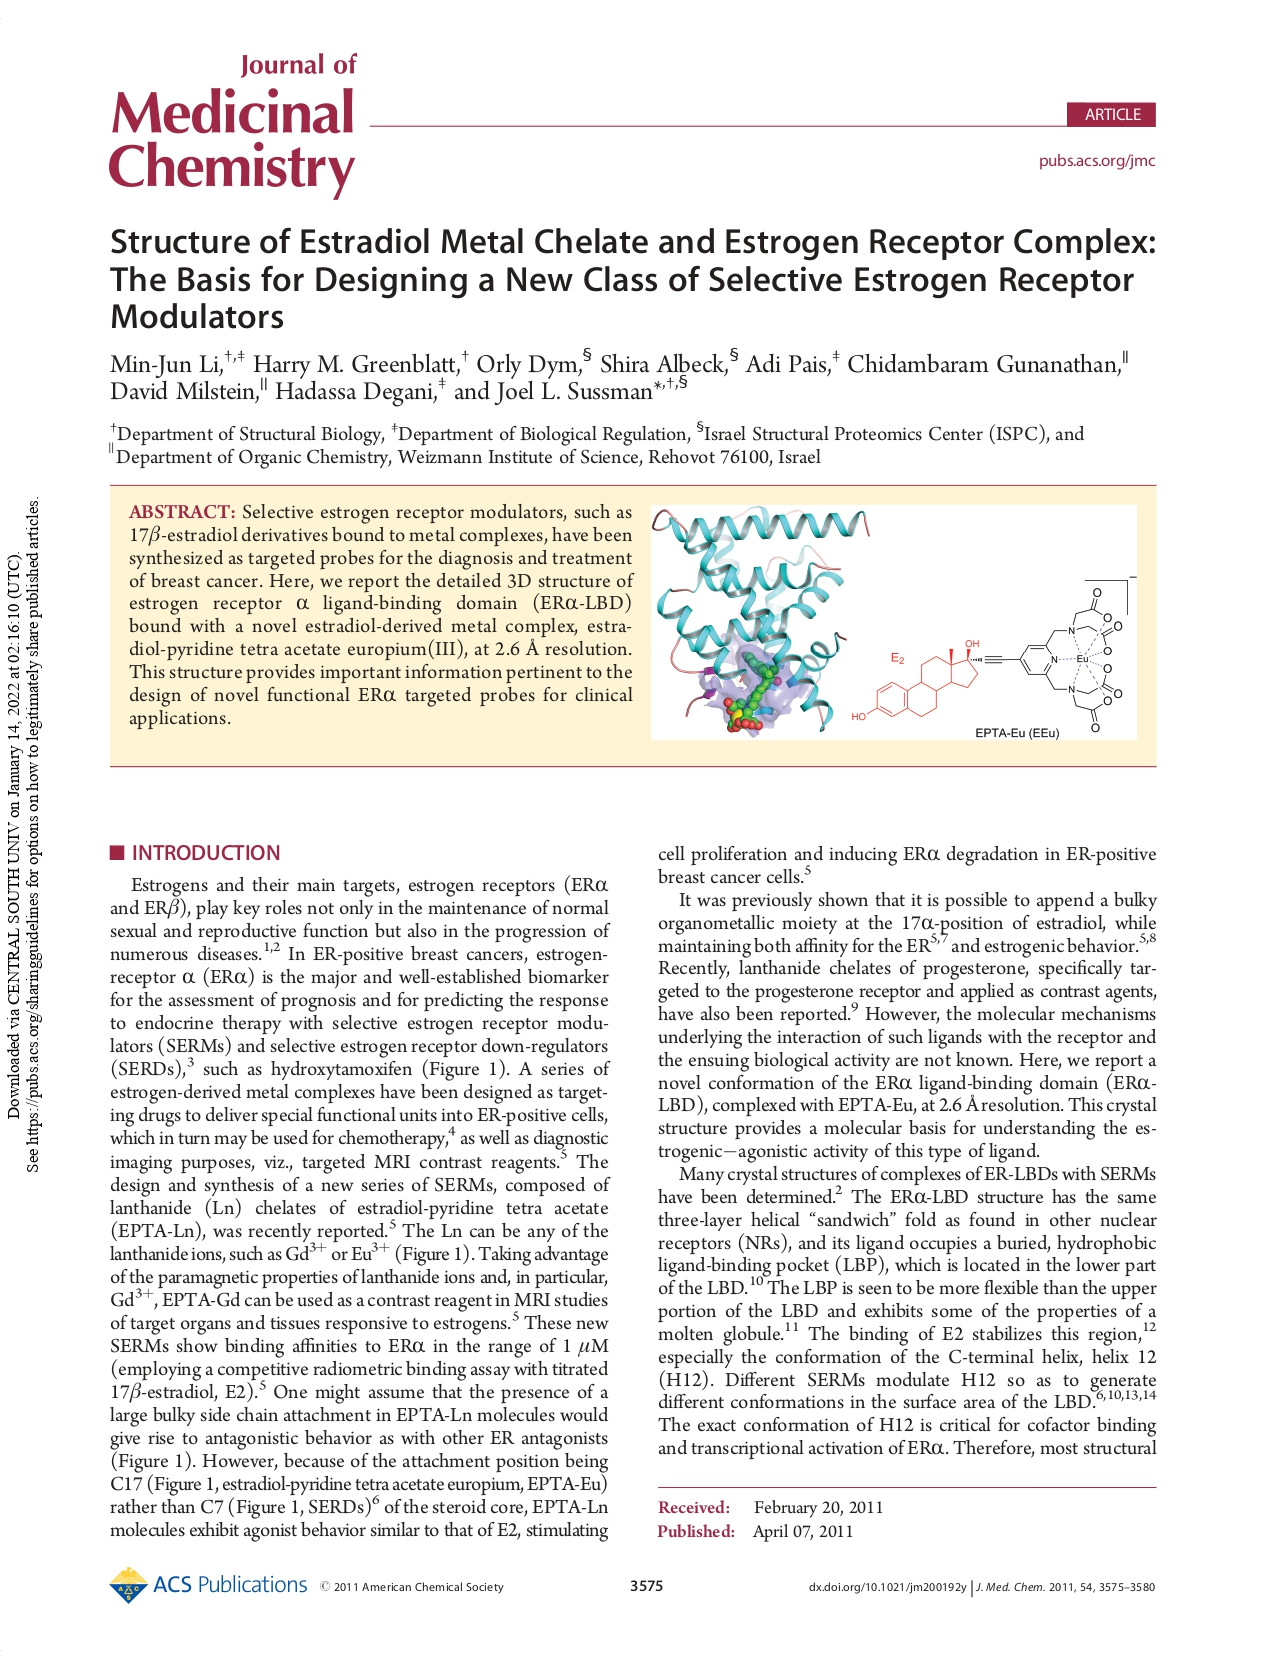exist_molecular: (850, 586, 1125, 733)
